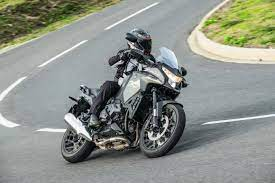moto: (62, 69, 190, 160)
person: (110, 26, 155, 75)
